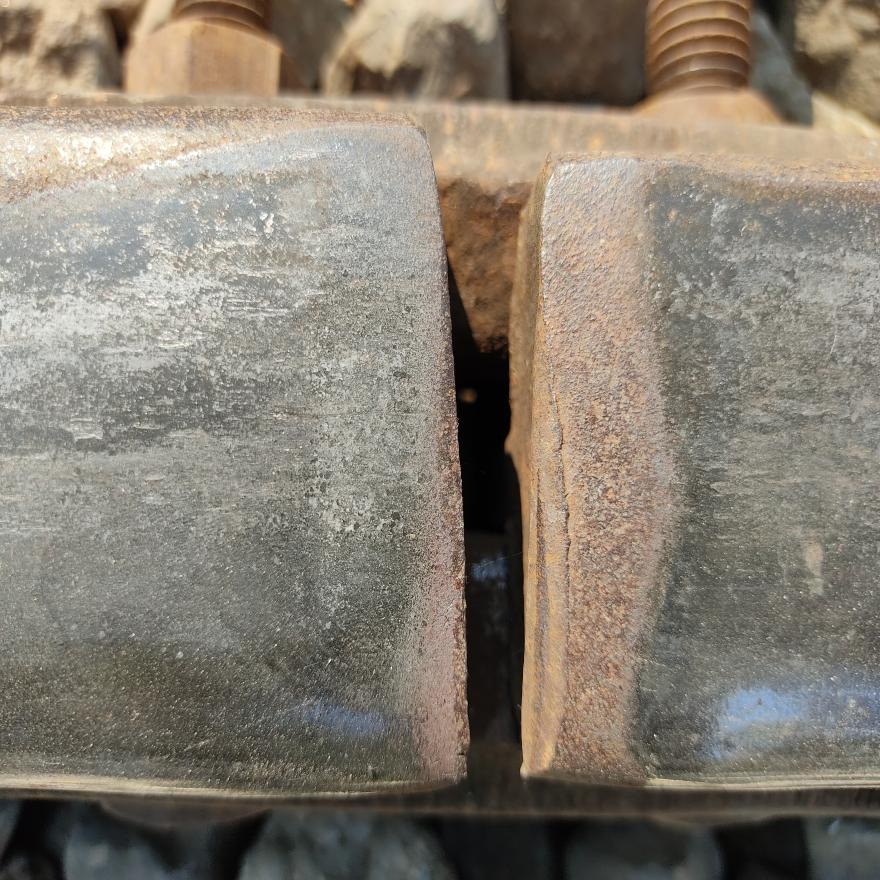railway-gap: (233, 57, 730, 826)
